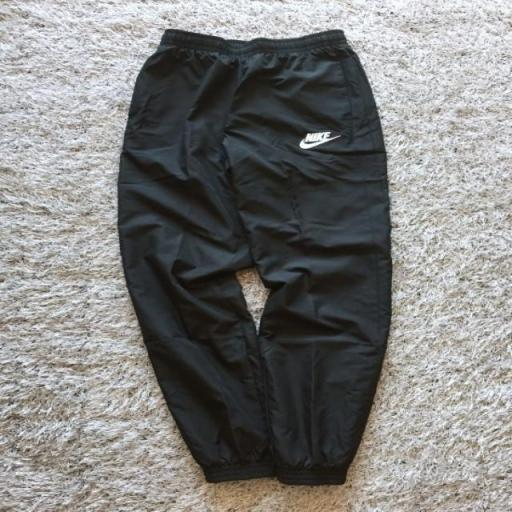Nike: (296, 137, 340, 151), (303, 132, 330, 142)
